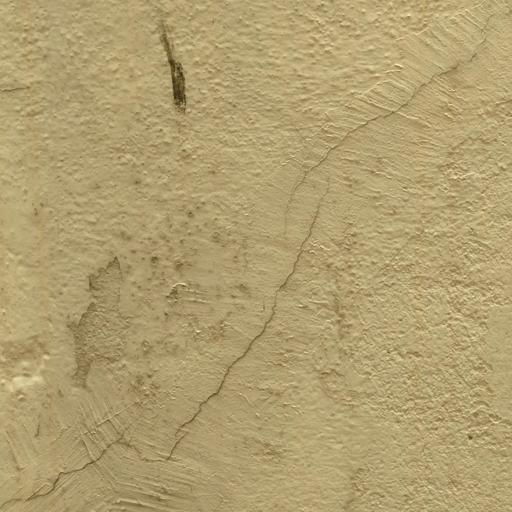minor_crack: (5, 1, 512, 512)
